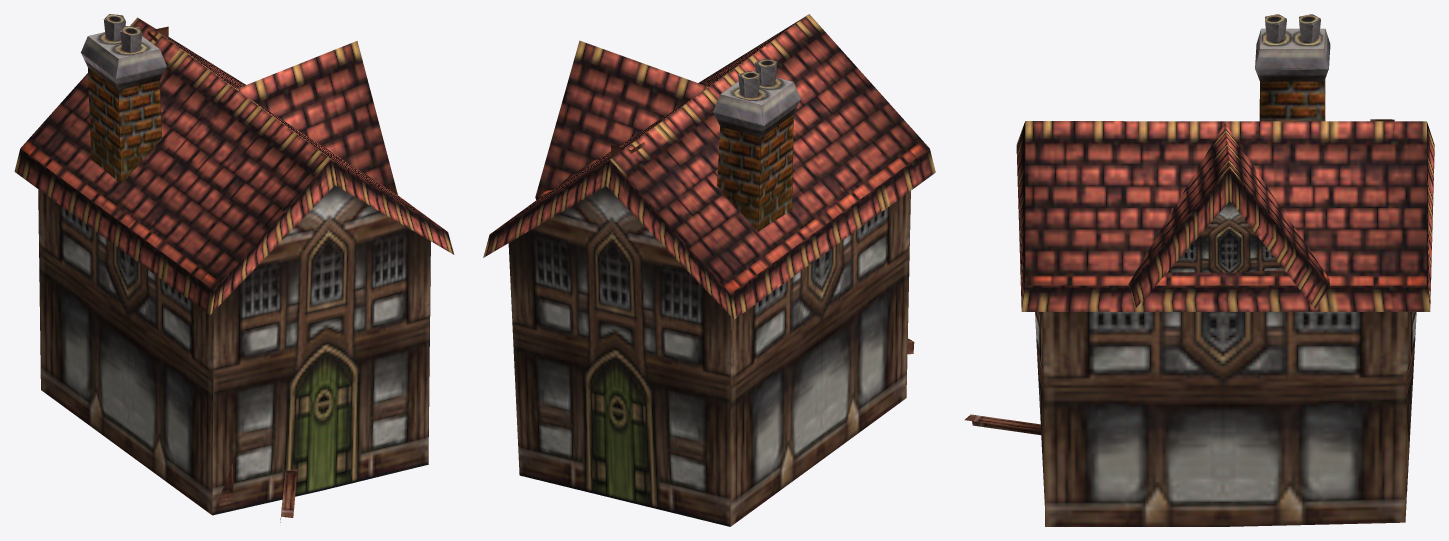
The model's file is war3_buildingsmall.obj.
The picture shows the model from 3 angles, left to right: view 1: azimuth 30°, elevation 25°; view 2: azimuth 150°, elevation 25°; view 3: azimuth 270°, elevation 25°; orthographic projection. The views are drawn at different scales.
Parts seen in each view (by area): view 1: Mesh02, Mesh01; view 2: Mesh02; view 3: Mesh02, Mesh01.
Part boxes in pixels (<box>): Mesh02: <box>14,14,454,515</box>; Mesh01: <box>147,26,297,522</box>; Mesh02: <box>483,14,935,526</box>; Mesh02: <box>1016,14,1434,526</box>; Mesh01: <box>965,119,1394,435</box>.
Bounding box in the file's own units: 238 × 367 × 378.
